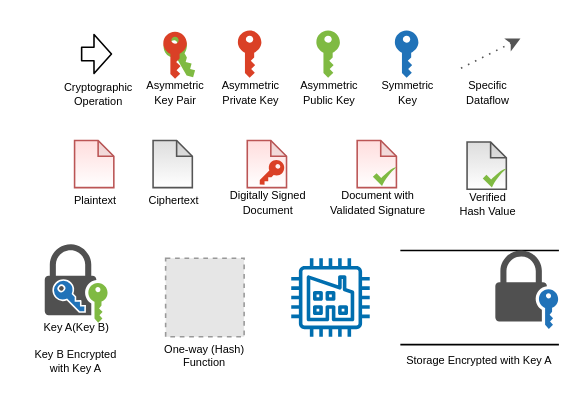
This 586x405 diagram has some shape labels left out. Grey dashed boxes stand in for pictures. Here are the shapes that lost their labels. From the top down, the centre of each, then its label:
At (x=329, y=296): "Key Generator".
At (x=526, y=289): "Key A".
